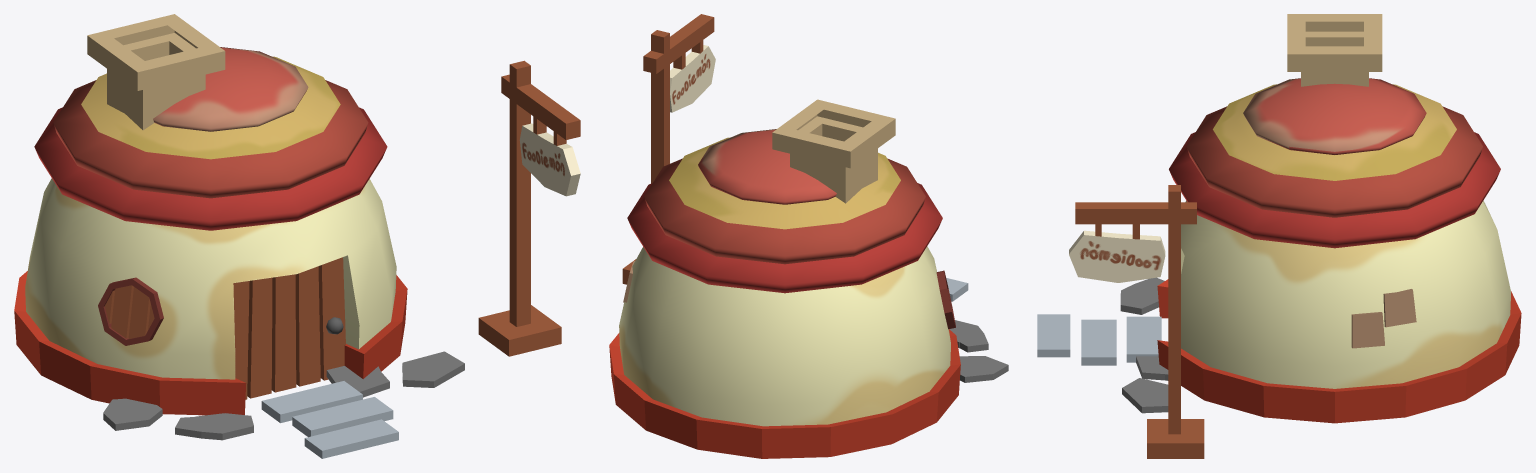
Rendered from house.glb.
The picture shows the model from 3 angles, left to right: view 1: azimuth 30°, elevation 25°; view 2: azimuth 150°, elevation 25°; view 3: azimuth 270°, elevation 25°; orthographic projection. The views are drawn at different scales.
Visible parts, largest first — view 1: Circle, Circle.004, Circle.003, Cube, Circle.006, Circle.001, Plane, Circle.005, Circle.009, Plane.001, Vert.003, Circle.007; view 2: Circle, Circle.001, Circle.004, Circle.003, Plane, Circle.005, Cube, Circle.009, Vert.003, Circle.007; view 3: Circle, Circle.001, Circle.004, Cube, Circle.003, Circle.009, Circle.005, Plane, Plane.001, Vert.003, Circle.008.
Boxes of the visible parts, x1,y1,x2,y2 form: Circle: [25, 178, 396, 379]; Circle.004: [53, 80, 368, 198]; Circle.003: [34, 107, 387, 230]; Cube: [478, 60, 580, 356]; Circle.006: [233, 257, 345, 399]; Circle.001: [14, 271, 407, 415]; Plane: [87, 14, 225, 130]; Circle.005: [81, 56, 340, 159]; Circle.009: [153, 47, 308, 131]; Plane.001: [261, 381, 398, 458]; Vert.003: [103, 351, 464, 440]; Circle.007: [98, 277, 163, 345]; Circle: [619, 246, 950, 426]; Circle.001: [609, 329, 960, 458]; Circle.004: [644, 158, 925, 264]; Circle.003: [627, 183, 942, 293]; Plane: [772, 99, 895, 203]; Circle.005: [669, 137, 900, 229]; Cube: [622, 14, 715, 284]; Circle.009: [698, 129, 836, 204]; Vert.003: [949, 320, 1008, 382]; Circle.007: [936, 270, 955, 329]; Circle: [1181, 200, 1510, 388]; Circle.001: [1157, 279, 1521, 423]; Circle.004: [1186, 106, 1482, 217]; Cube: [1069, 185, 1204, 458]; Circle.003: [1169, 132, 1500, 248]; Circle.009: [1243, 78, 1426, 154]; Circle.005: [1213, 84, 1456, 180]; Plane: [1287, 14, 1382, 86]; Plane.001: [1037, 314, 1161, 365]; Vert.003: [1120, 277, 1168, 413]; Circle.008: [1351, 289, 1416, 348].
Size of the model in its own units: 5.63 by 3.88 by 5.92.
Materials: 14 (4 with a texture image).
